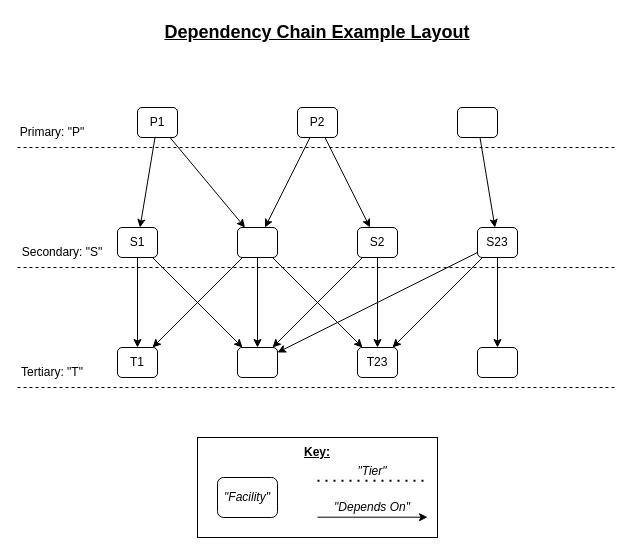
Image size: 636x555. Some labels were removed from this diagram. Each missing label, with the centre of its shape:
"P3" belongs at (x=477, y=122).
"S12" belongs at (x=257, y=242).
"T 3" belongs at (x=497, y=362).
"T123" belongs at (x=257, y=362).
